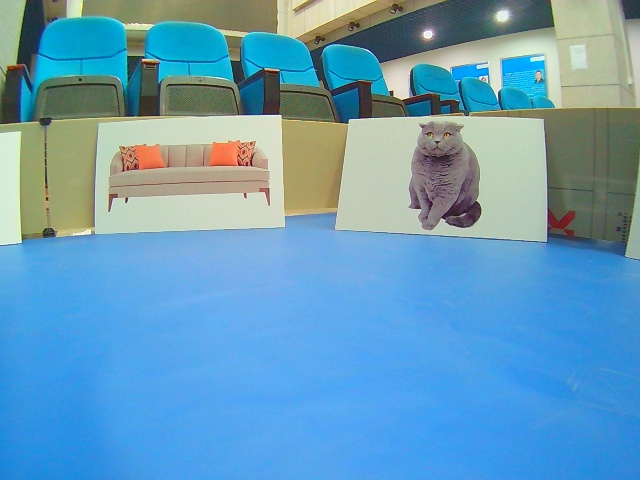pet: (334, 118, 550, 244)
sofa: (93, 114, 287, 234)
